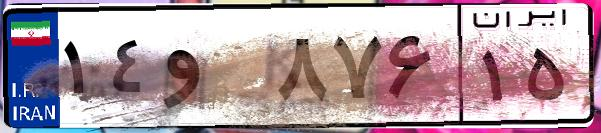1: (57, 26, 110, 100), (475, 38, 525, 113)
4: (110, 28, 158, 98)
5: (525, 38, 570, 115)
6: (385, 28, 445, 110)
7: (330, 28, 385, 110)
8: (270, 28, 330, 110)
و: (158, 20, 270, 120)
